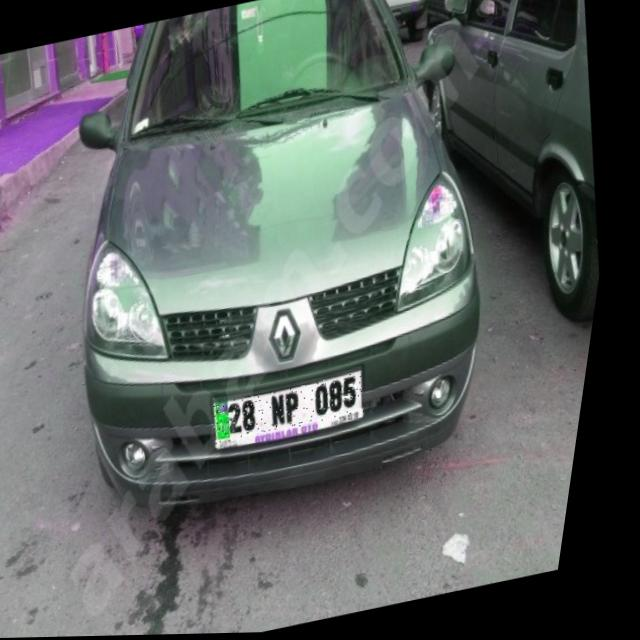license_plate: (220, 373, 381, 446)
